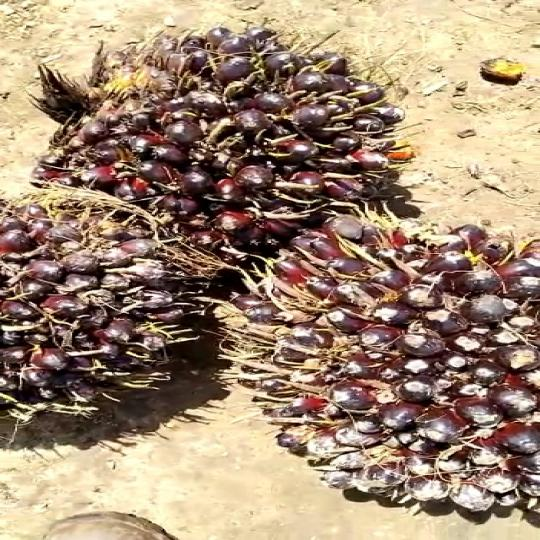mentah: (38, 22, 409, 254), (0, 192, 209, 444)
